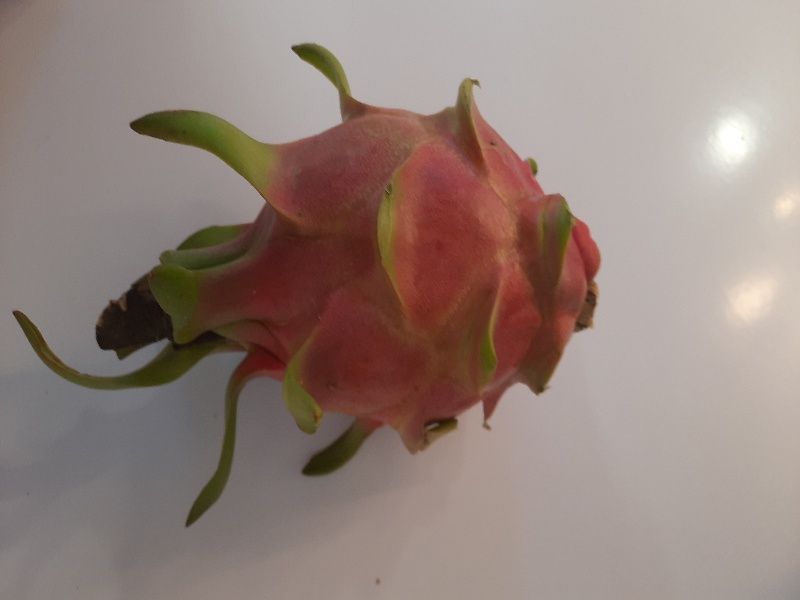fruit: (39, 44, 605, 506)
